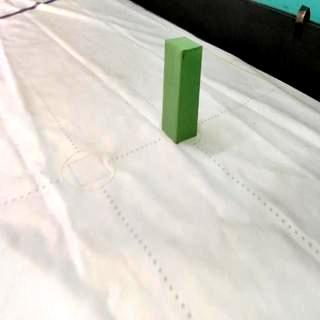greenbox: (160, 36, 202, 146)
